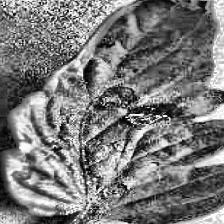disease: (5, 0, 224, 221)
